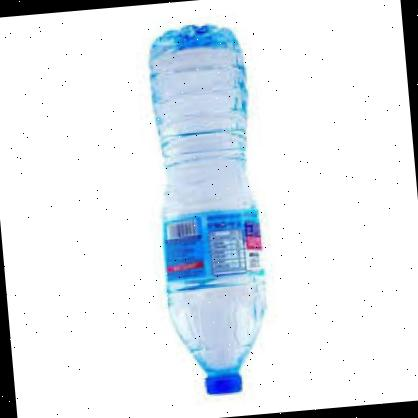bottle: (139, 19, 274, 400)
cap: (202, 372, 244, 395)
label: (160, 205, 263, 295)
